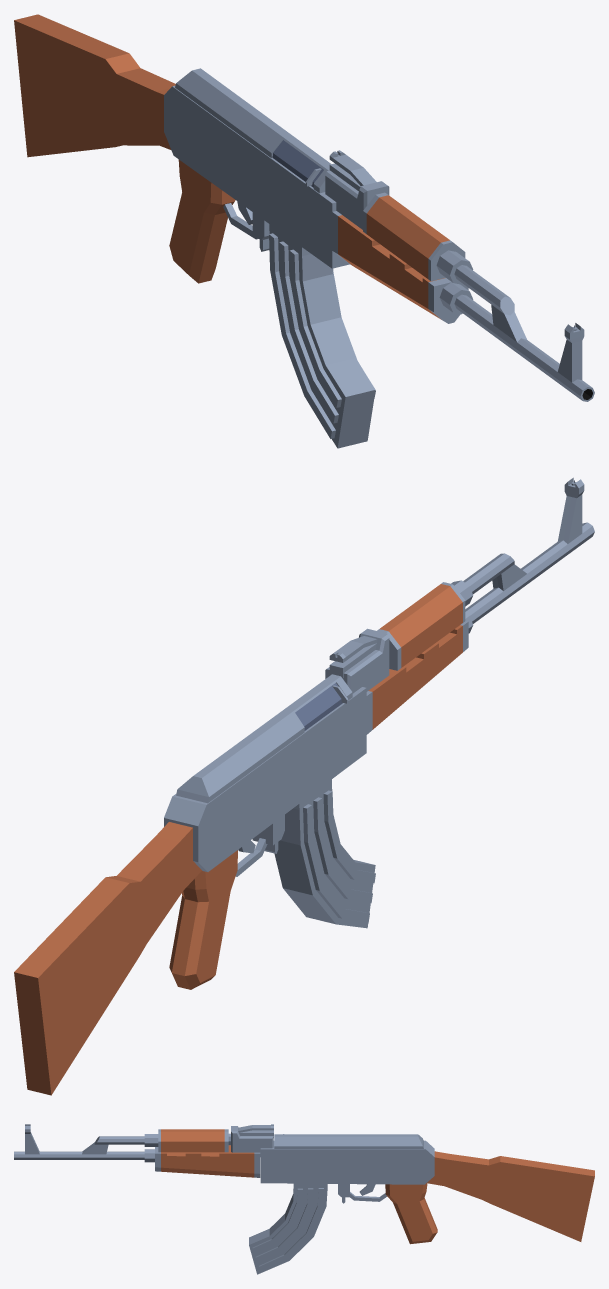
3 renders of one model, top to bottom at view 1: azimuth 30°, elevation 25°; view 2: azimuth 150°, elevation 25°; view 3: azimuth 270°, elevation 25°, orthographic. The views are drawn at different scales.
Visible parts, largest first — view 1: MS_AK47_Body, MS_AK47_Magazine, MS_AK47_Hatch; view 2: MS_AK47_Body, MS_AK47_Magazine, MS_AK47_Hatch; view 3: MS_AK47_Body, MS_AK47_Magazine.
Part boxes in pixels (x1,y1,x2,y2): MS_AK47_Body: (14, 14, 594, 401); MS_AK47_Magazine: (269, 224, 375, 448); MS_AK47_Hatch: (272, 140, 323, 187); MS_AK47_Body: (14, 477, 594, 1095); MS_AK47_Magazine: (274, 779, 375, 928); MS_AK47_Hatch: (295, 683, 348, 730); MS_AK47_Body: (14, 1124, 594, 1244); MS_AK47_Magazine: (249, 1183, 327, 1274).
Bounding box in the file's own units: 0.0482 × 0.3266 × 1.18.
Materials: 1 (1 with a texture image).
